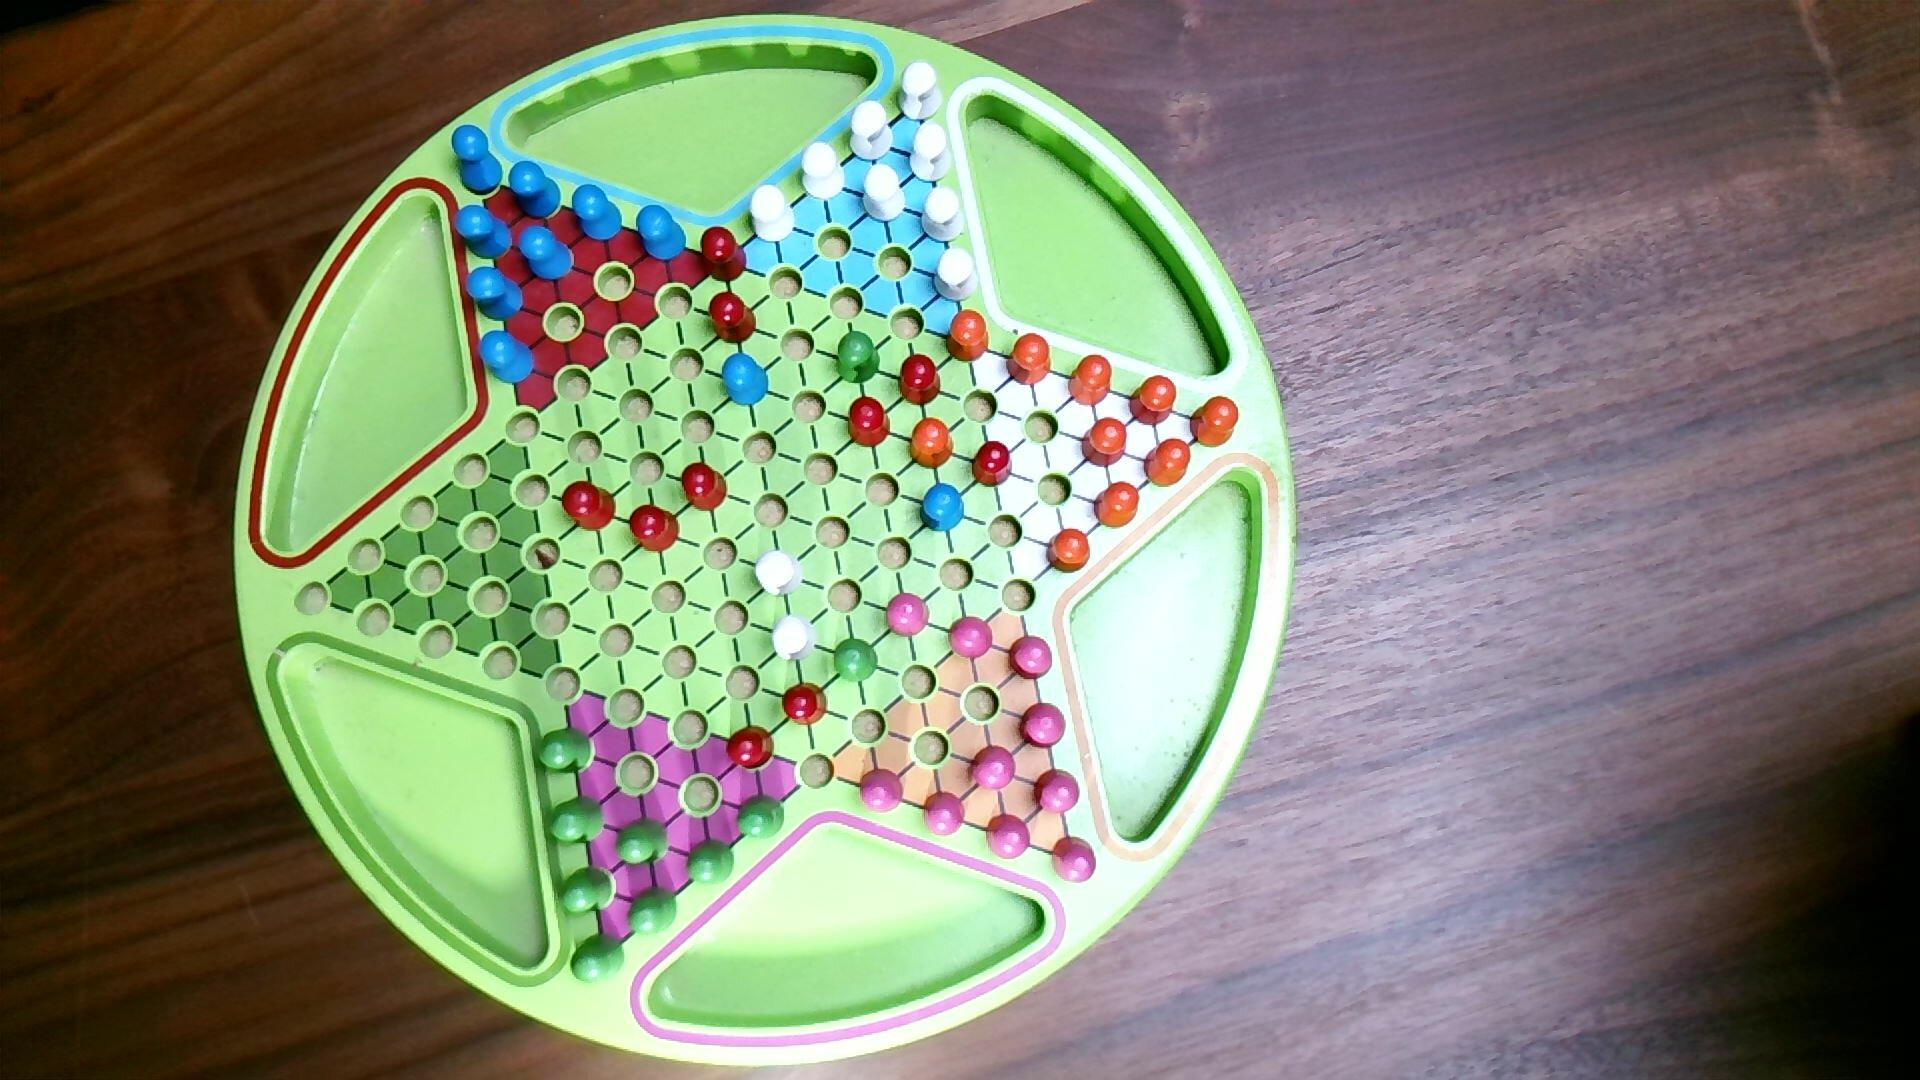B: (452, 124, 506, 195), (464, 265, 527, 324), (477, 328, 538, 386), (454, 204, 516, 261), (517, 224, 576, 282), (509, 160, 563, 222), (571, 183, 625, 243), (636, 203, 688, 262), (721, 351, 771, 409), (918, 480, 967, 535)
G: (545, 793, 608, 849), (568, 930, 628, 988), (556, 864, 617, 920), (615, 815, 673, 870), (535, 725, 596, 777), (626, 884, 680, 939), (835, 328, 884, 388), (736, 793, 787, 843), (686, 837, 737, 887), (833, 636, 881, 684)
O: (1189, 394, 1242, 450), (1127, 375, 1179, 429), (944, 307, 992, 365), (1006, 331, 1054, 388), (909, 415, 956, 472), (1145, 436, 1193, 491), (1067, 353, 1114, 409), (1081, 415, 1129, 469), (1044, 527, 1093, 578), (1095, 480, 1142, 531)
R: (560, 480, 620, 534), (707, 289, 760, 347), (626, 502, 682, 556), (700, 225, 749, 285), (895, 352, 944, 409), (680, 460, 731, 514), (724, 723, 777, 771), (847, 396, 893, 450), (781, 680, 831, 728), (971, 439, 1015, 491)
R2: (967, 742, 1019, 794), (1017, 702, 1069, 752), (1050, 833, 1098, 886), (984, 812, 1033, 862), (1033, 767, 1083, 816), (884, 589, 931, 640), (858, 767, 907, 815), (922, 790, 968, 840), (1007, 634, 1055, 682), (947, 615, 996, 661)
W: (894, 59, 947, 123), (847, 99, 895, 164), (909, 117, 955, 185), (748, 185, 796, 245), (862, 162, 909, 225), (800, 140, 847, 203), (932, 245, 982, 303), (920, 185, 967, 244), (754, 549, 806, 600), (771, 612, 819, 665)
